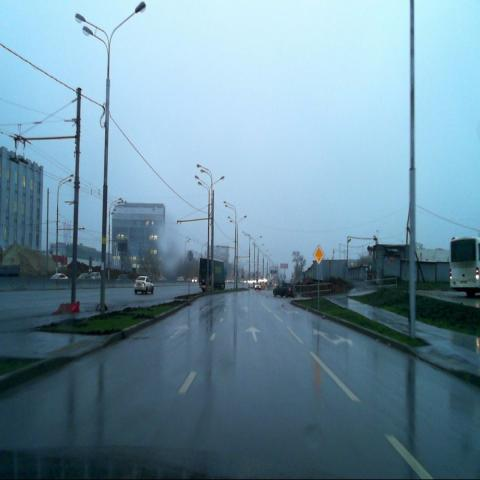2_1: (313, 244, 324, 264)
